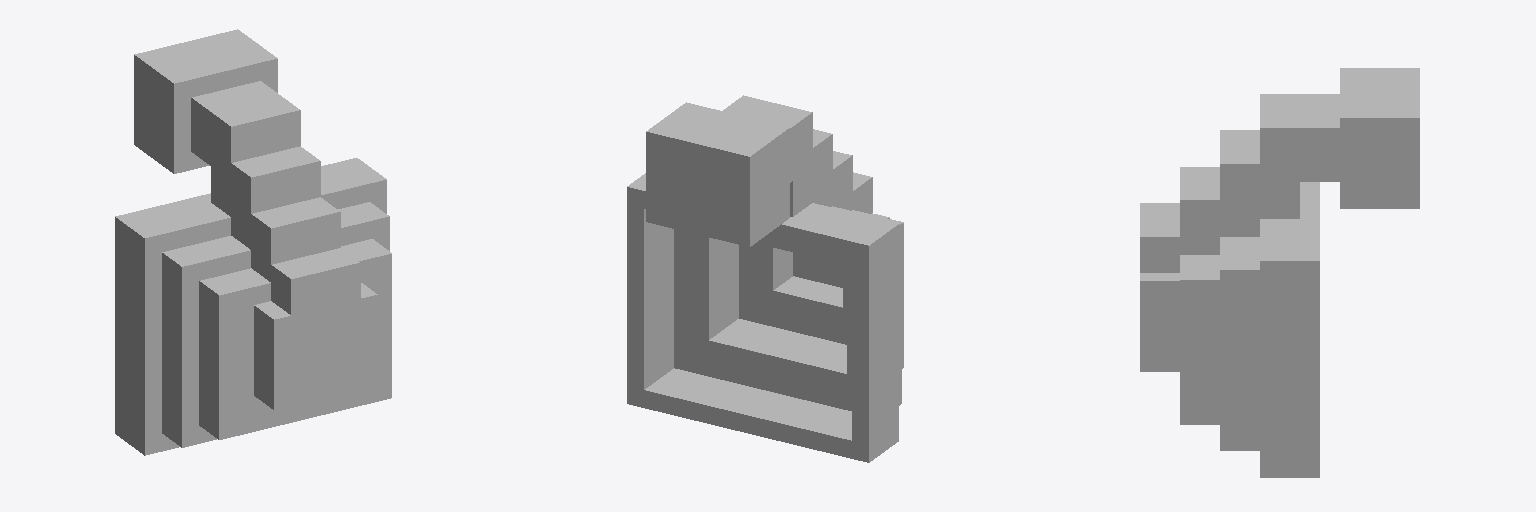
File: xmas hat.obj
The picture shows the model from 3 angles: view 1: azimuth 30°, elevation 25°; view 2: azimuth 150°, elevation 25°; view 3: azimuth 270°, elevation 25°; orthographic projection.
Size of the model in its own units: 14 by 18 by 14.